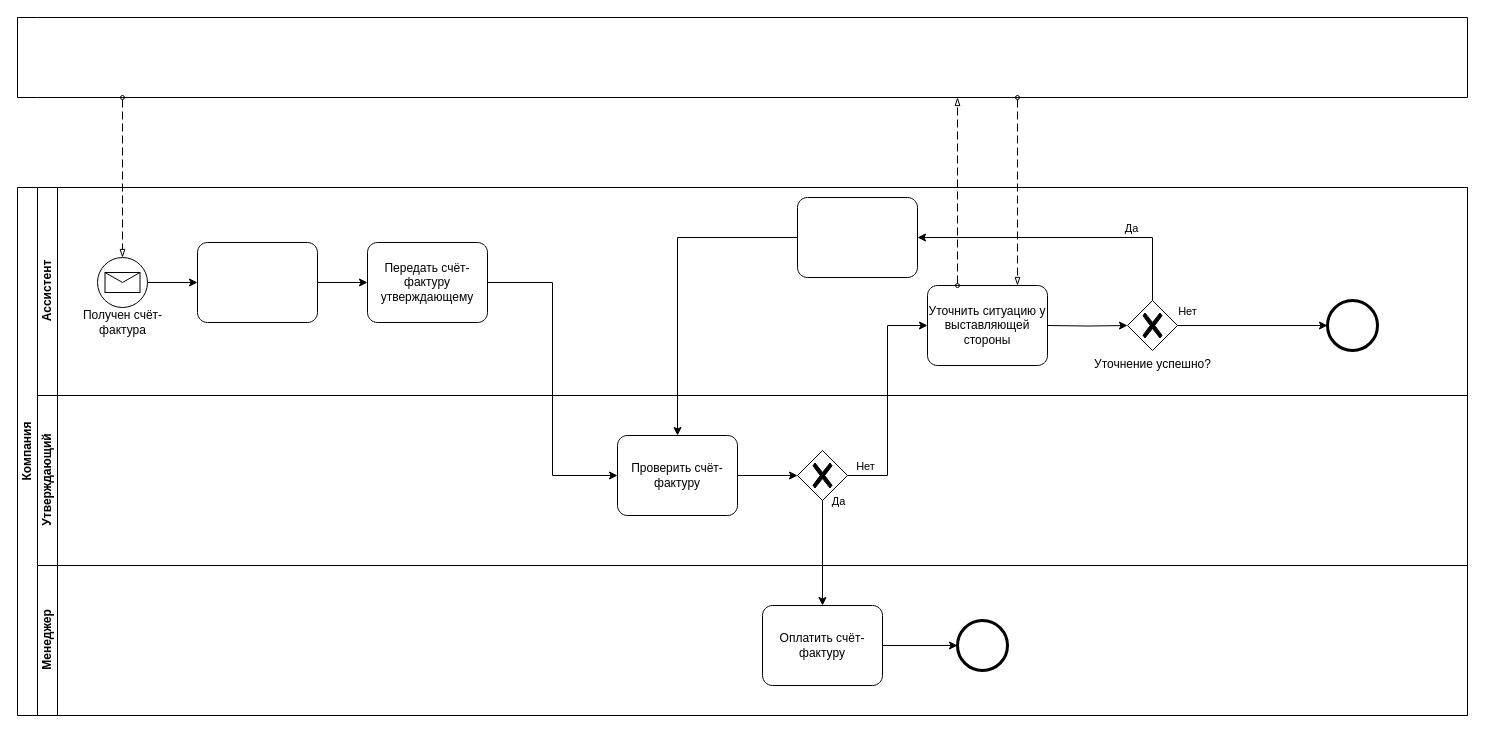
Image size: 1485x733. Some labels were removed from this diagram. The shapes that lost their labels are listed below. From the top down, each one's centre as x and y in pixels, then its label:
At point 742,57: "Выставитель счёта".
At point 857,237: "Отправить исправленный счет-фактуру".
At point 257,282: "Отсканировать счёт-фактуру".
At point 1352,325: "Отменить обработку счета-фактуры".
At point 822,475: "Утвержден счет-фактура?".
